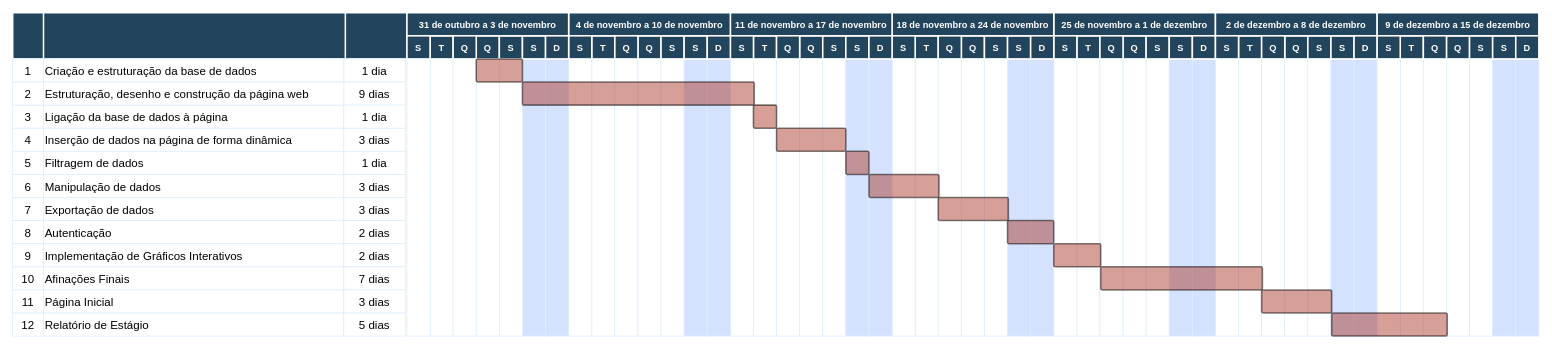
The diagram is 1552 pixels wide and 349 high, and some of its shapes have lost their labels. Here are the shapes that lost their labels. From the top down, the centre of each, then its label:
the point at 197,35: Nome da Tarefa
the point at 375,35: Duração Estimada
